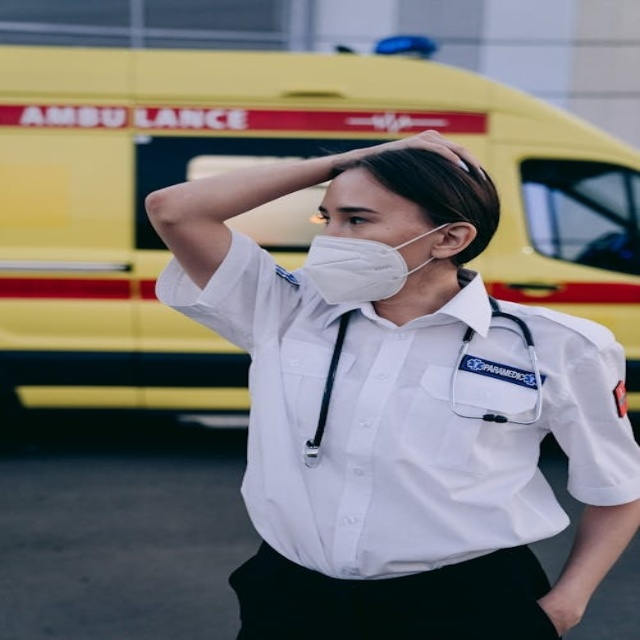Mascara: (301, 222, 446, 304)
Sin_gafas: (316, 200, 394, 230)
Sin_guantes: (337, 125, 493, 179)
